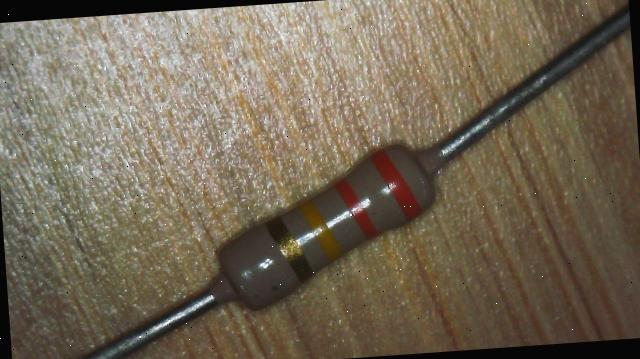gold: (264, 213, 312, 284)
orange: (369, 146, 422, 222), (336, 175, 376, 237)
resistor: (178, 110, 459, 328)
yellow: (298, 197, 342, 264)
